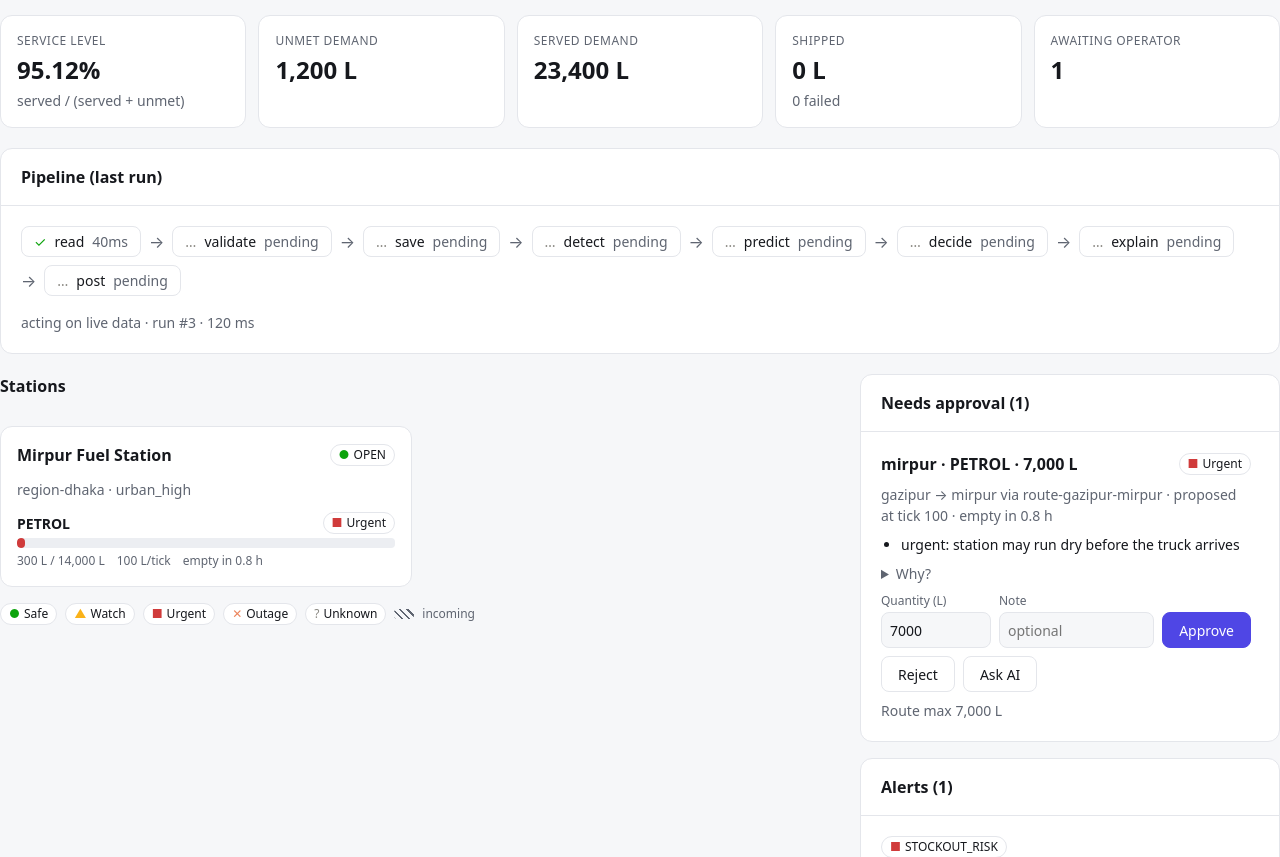
it: DashboardPage › asks the AI about a pending recommendation
The image size is (1280, 857).
Step 1. Click the button "Ask AI" → (1000, 674), box top-left (963, 656), bottom-right (1037, 692)
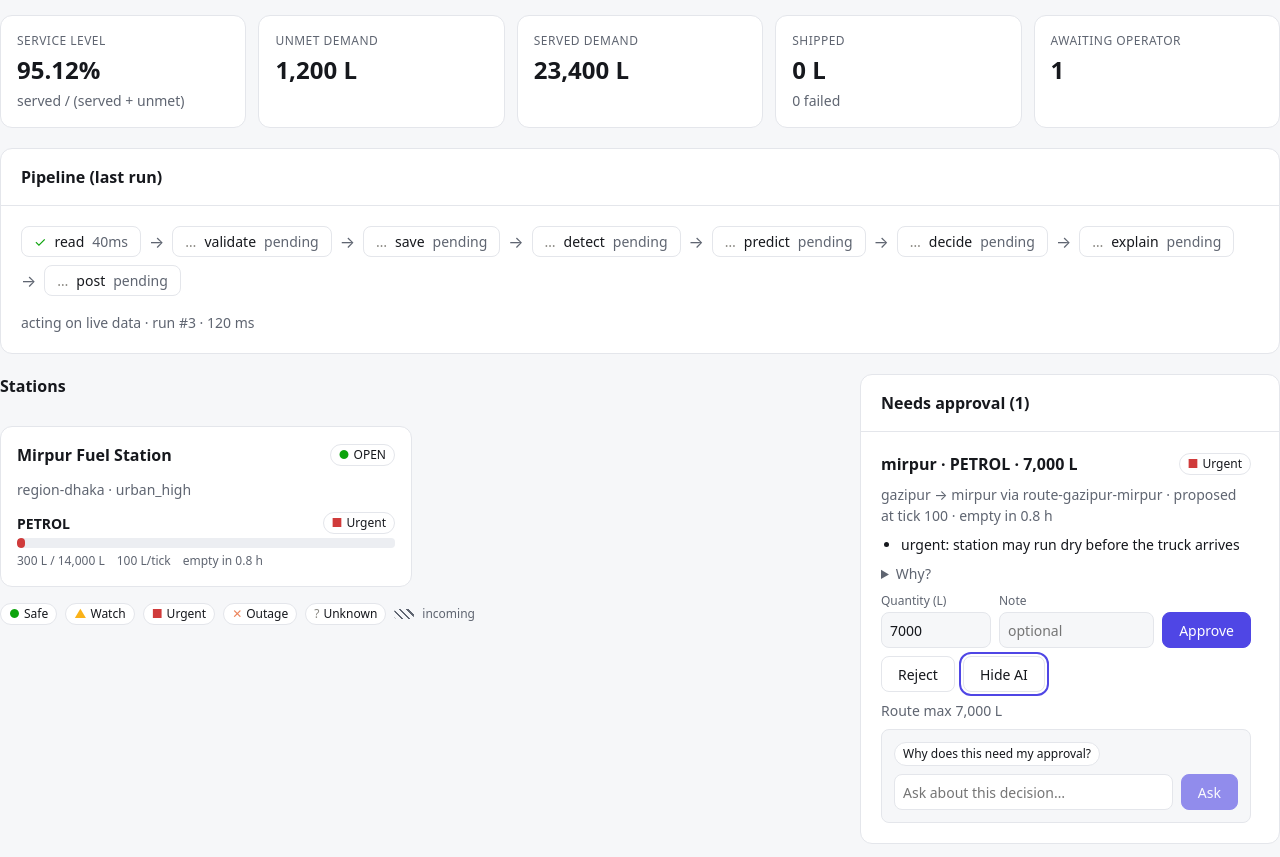
Step 2. Click the button "Why does this need my approval?" → (997, 754), box top-left (894, 742), bottom-right (1100, 766)
(page scrolled)
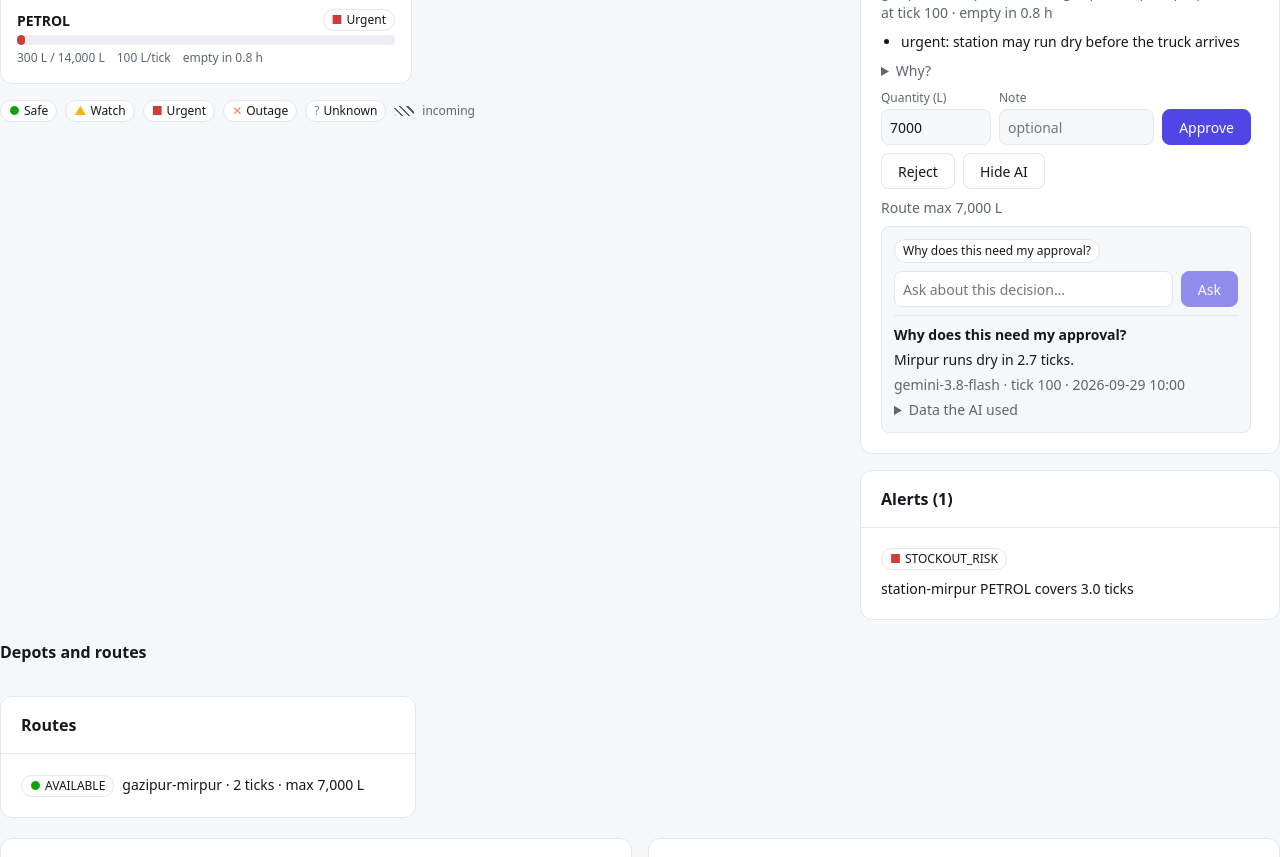
Check: the text "Mirpur runs dry in 2.7 ticks." is shown, box top-left (894, 350), bottom-right (1074, 369)
Check: the heading "Data the AI used" is shown, box top-left (909, 400), bottom-right (1018, 419)
